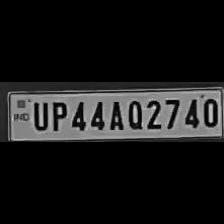0: (200, 95, 218, 127)
2: (144, 97, 162, 130)
4: (68, 98, 88, 132), (180, 96, 200, 128), (88, 97, 106, 130)
7: (160, 95, 180, 129)
A: (105, 97, 124, 130)
P: (47, 98, 66, 132)
Q: (124, 97, 144, 130)
U: (28, 98, 48, 132)
